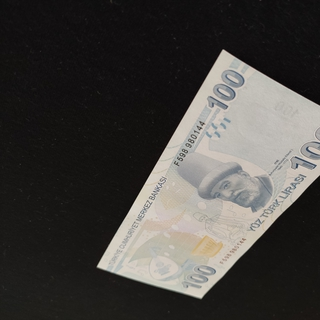100TLBack: (95, 48, 320, 301)
